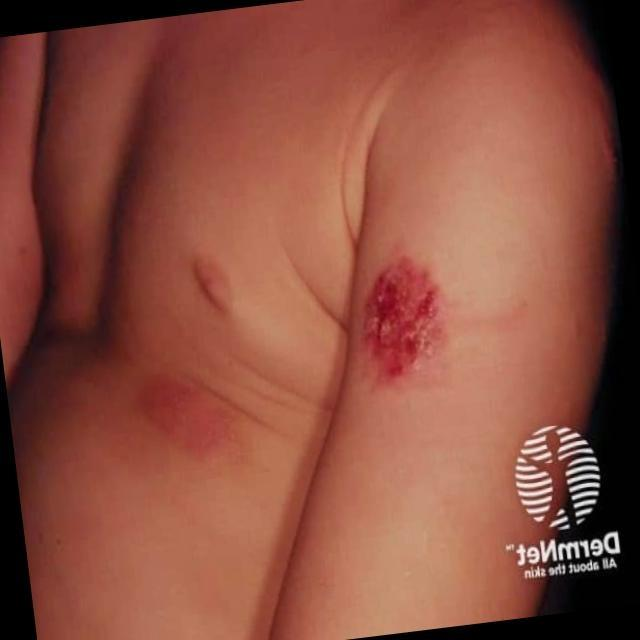Eczema: (358, 254, 453, 376), (136, 380, 246, 467)
